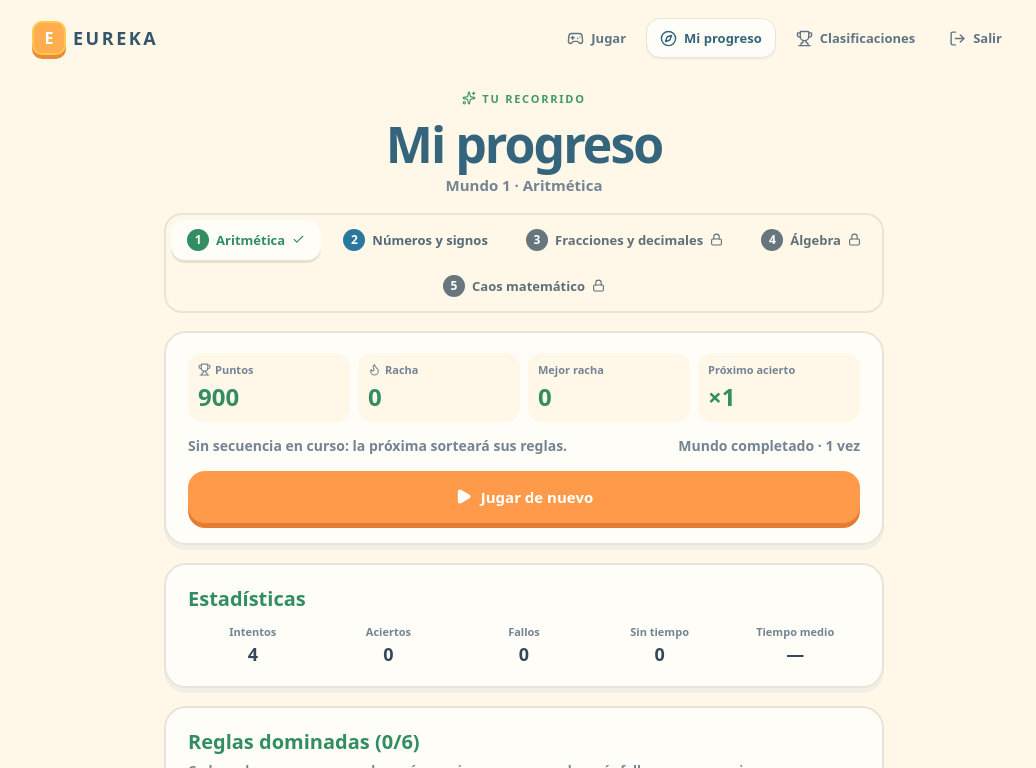
Scenario: Mi progreso › cambia de mundo con el selector: datos e historial del mundo elegido
Click the link "2 Números y signos": {"x": 416, "y": 243} [343,228,488,257]
(page scrolled)
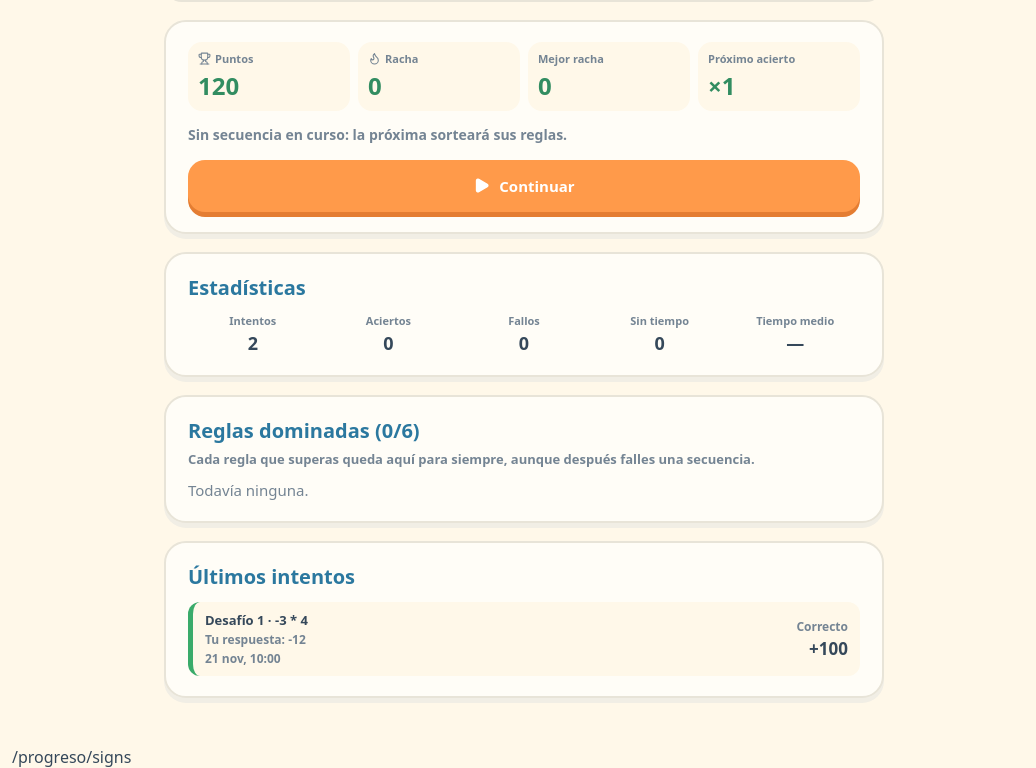
Expected: the text with test id "location" reads "/progreso/signs", [12,746,131,767]
Expected: the text "-3 * 4" is shown, [275,611,308,629]
